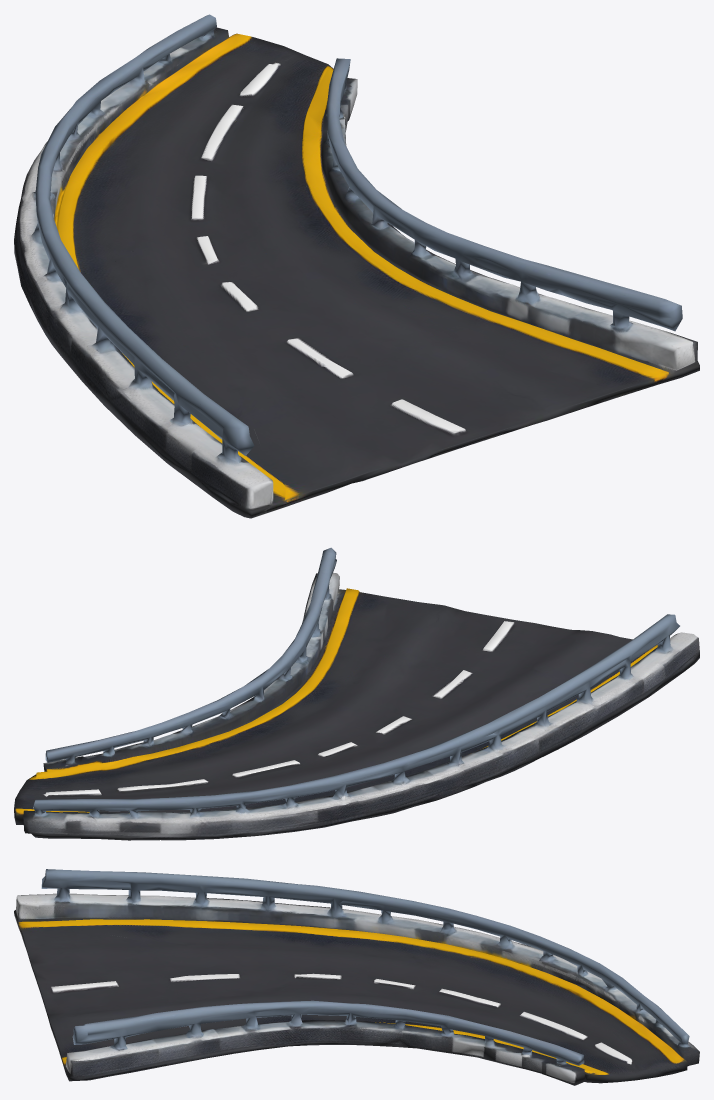
Rendered from two lane curve right.glb.
3 renders of one model, top to bottom at view 1: azimuth 30°, elevation 25°; view 2: azimuth 150°, elevation 25°; view 3: azimuth 270°, elevation 25°, orthographic. The views are drawn at different scales.
Visible parts, largest first — view 1: tripo_node_b3b00344-8bc1-45dd-817d-63b8169f9786; view 2: tripo_node_b3b00344-8bc1-45dd-817d-63b8169f9786; view 3: tripo_node_b3b00344-8bc1-45dd-817d-63b8169f9786.
Part boxes in pixels (x1,y1,x2,y2): tripo_node_b3b00344-8bc1-45dd-817d-63b8169f9786: [14, 14, 699, 518]; tripo_node_b3b00344-8bc1-45dd-817d-63b8169f9786: [14, 547, 699, 840]; tripo_node_b3b00344-8bc1-45dd-817d-63b8169f9786: [14, 869, 699, 1085].
Size of the model in its own units: 0.6065 by 0.0814 by 1.
Materials: 1 (1 with a texture image).
